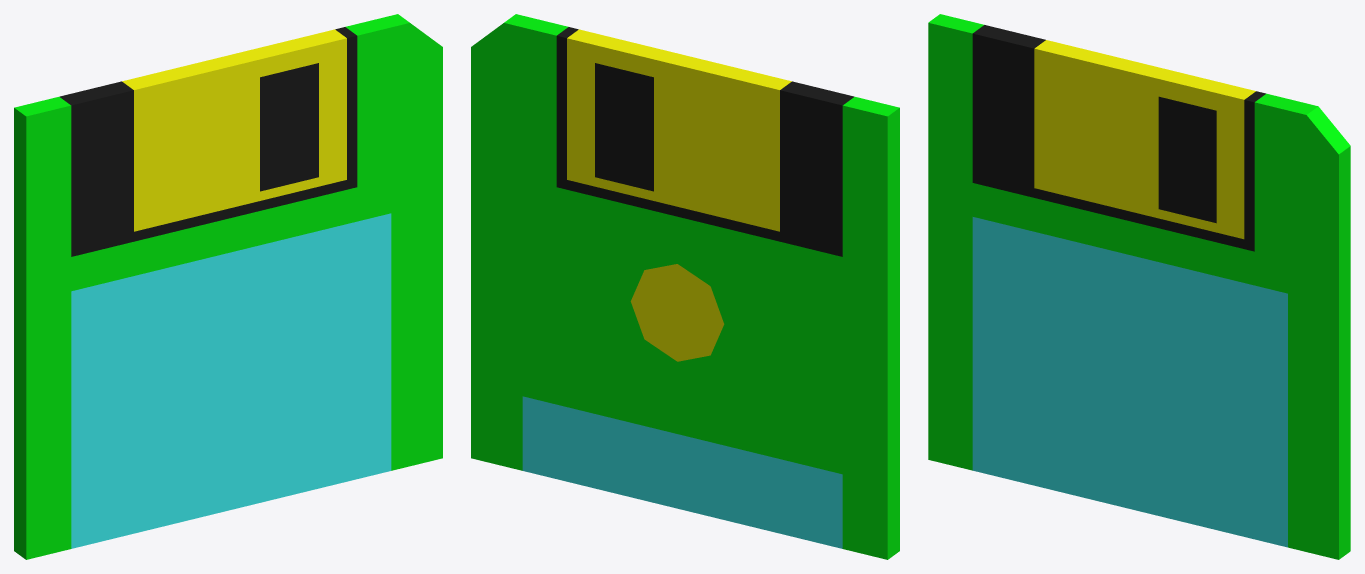
File: floppy_greenyellow.FBX
3 views of the same model, side by side, from view 1: azimuth 30°, elevation 25°; view 2: azimuth 150°, elevation 25°; view 3: azimuth 330°, elevation 25° (orthographic).
Parts seen in each view (by area): view 1: floppy_greenyellow; view 2: floppy_greenyellow; view 3: floppy_greenyellow.
Boxes of the visible parts, <box> form: floppy_greenyellow: <box>14,14,442,559</box>; floppy_greenyellow: <box>471,14,899,559</box>; floppy_greenyellow: <box>928,14,1350,559</box>.
Bounding box in the file's own units: 54.75 × 55.69 × 2.75.
